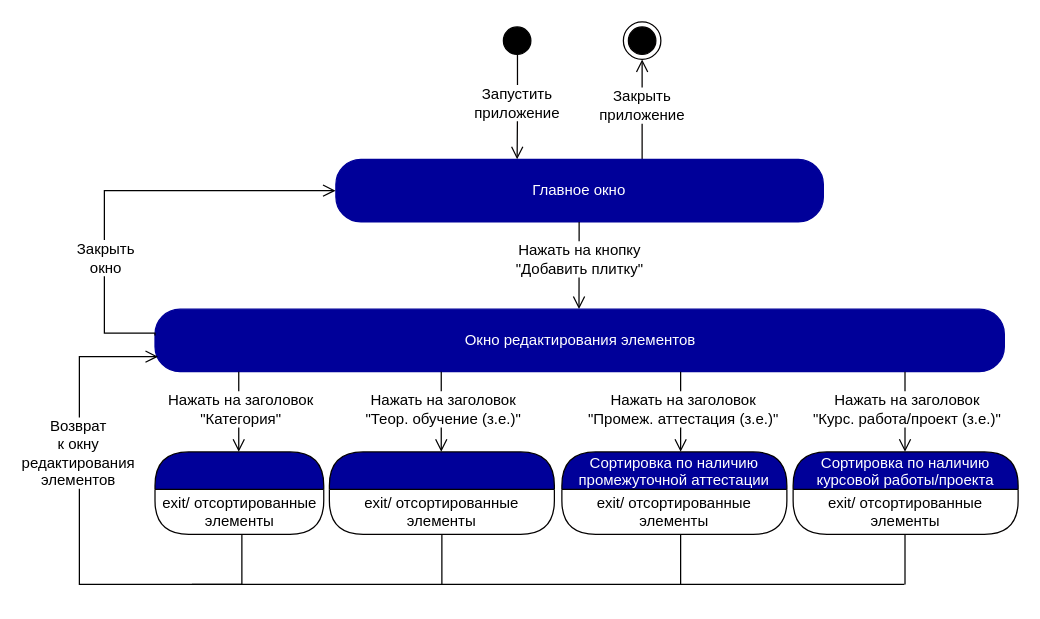
Image size: 1040x619. Some labels were removed from this diagram. The box of each missing label's shape, as (x1, y1, x2, y2) in pixels:
Сортировка по категории: (154, 451, 324, 534)
Сортировка по количеству з.е. теоретического обчуения: (328, 451, 554, 534)
